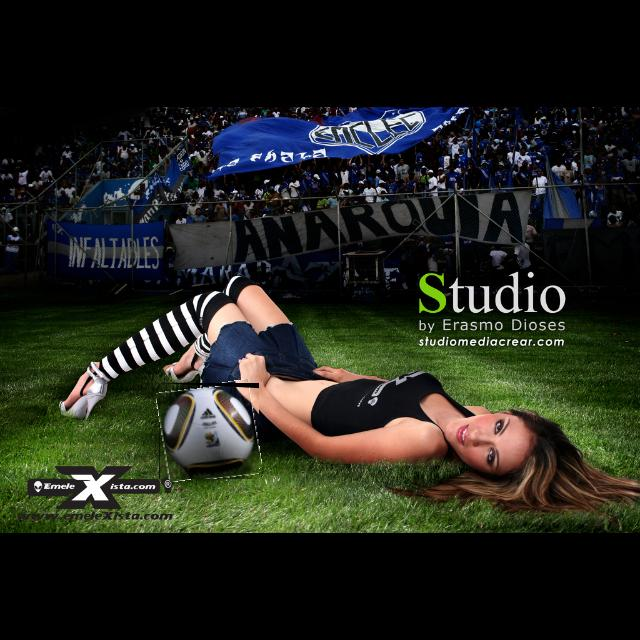Football: (159, 383, 259, 479)
